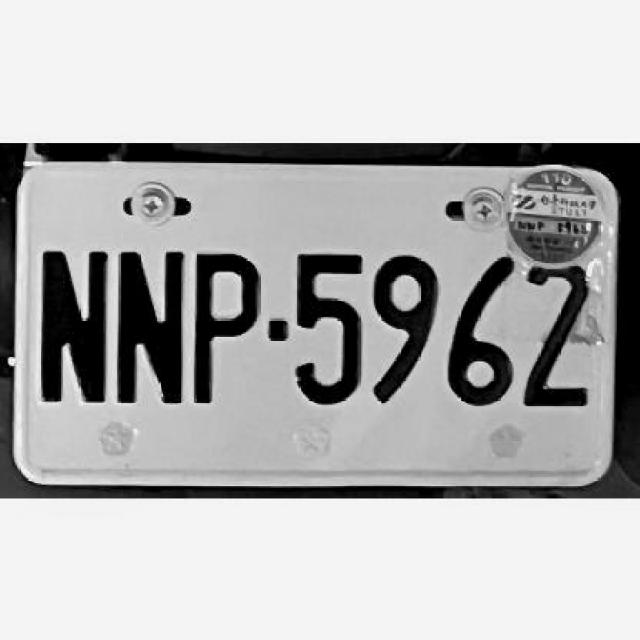-: (268, 320, 289, 345)
2: (520, 254, 591, 415)
5: (289, 246, 365, 406)
6: (442, 252, 518, 410)
9: (366, 251, 442, 403)
N: (34, 242, 111, 408), (111, 245, 186, 409)
P: (189, 246, 260, 405)
